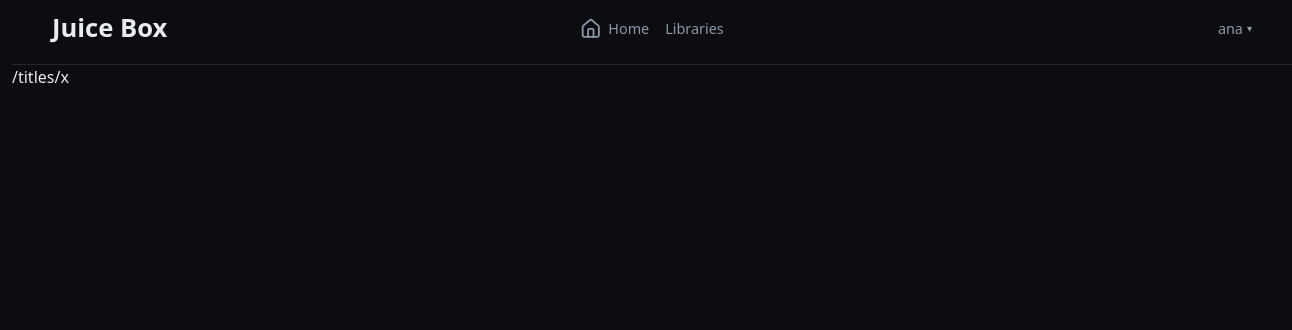
Test: AppHeader switch-user roster › switches instantly to a Signed-in entry (adopts its token, lands on Home)
This screenshot has width=1292, height=330.
Click the button with test id "user-menu-toggle".
click(1235, 28)  # box left=1218, top=18, right=1252, bottom=39
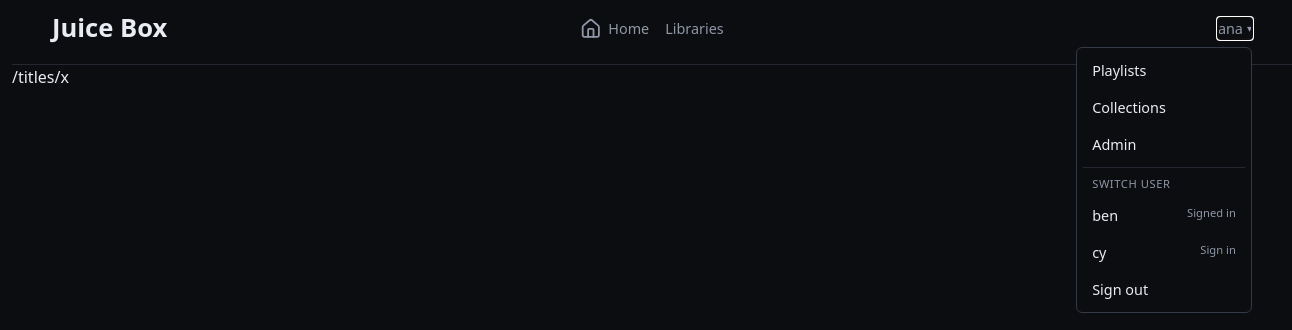
Click the menu item with test id "switch-user" showing "ben Signed in".
click(1164, 216)  # box left=1083, top=199, right=1245, bottom=233
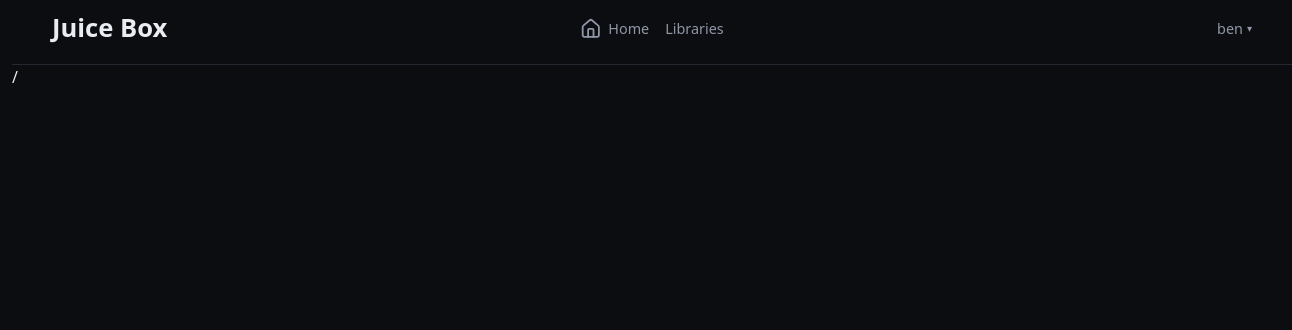
Expected: the text with test id "location" reads "/", left=12, top=66, right=18, bottom=88
Expected: the text with test id "current-user" reads "ben", left=1217, top=19, right=1243, bottom=38
